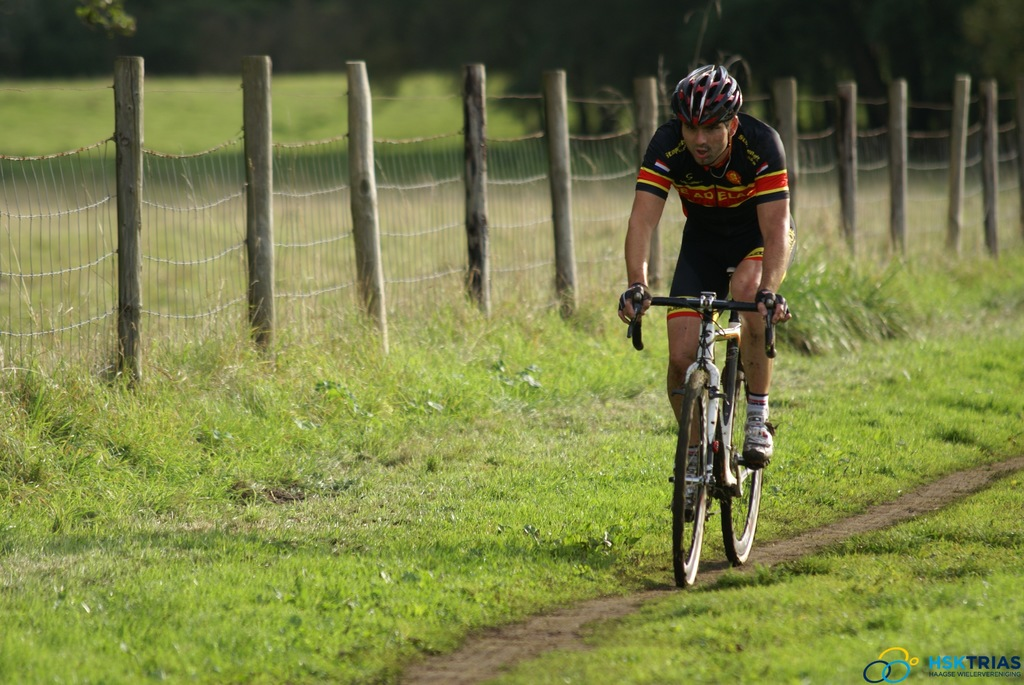Bike: (598, 280, 777, 581)
